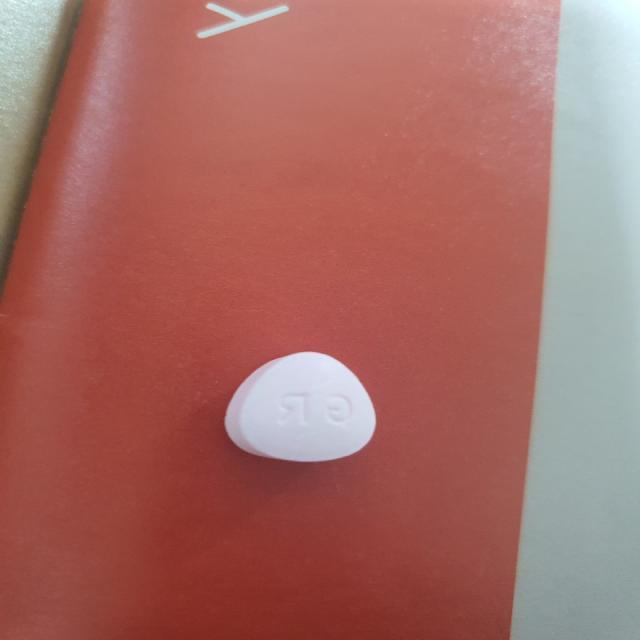pill: (221, 342, 392, 464)
